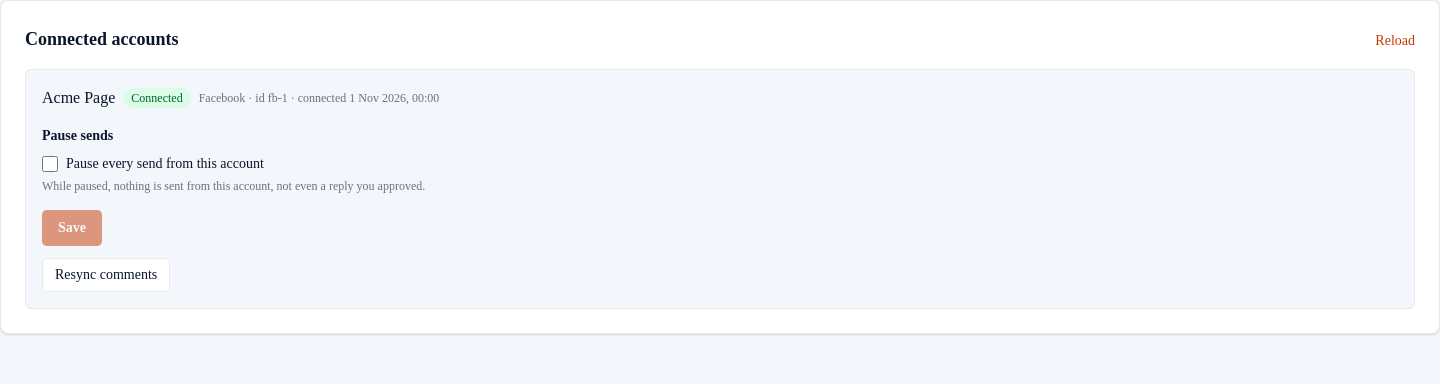
Scenario: Save sends exactly the pause
Click the checkbox labelled "Pause every send from this account".
click(50, 164)  # box 42,156 -> 58,172
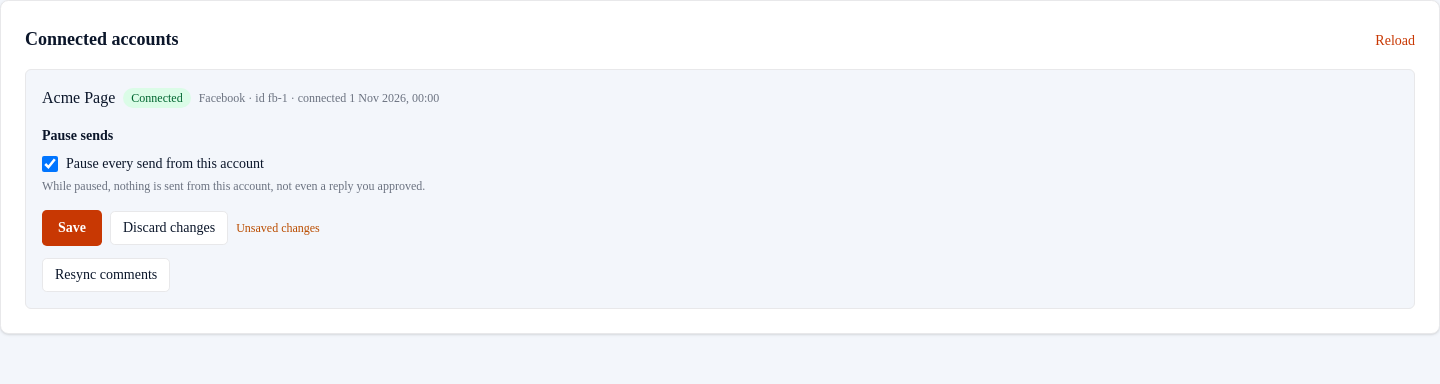
Click the button "Save".
click(72, 228)  # box 42,210 -> 102,246
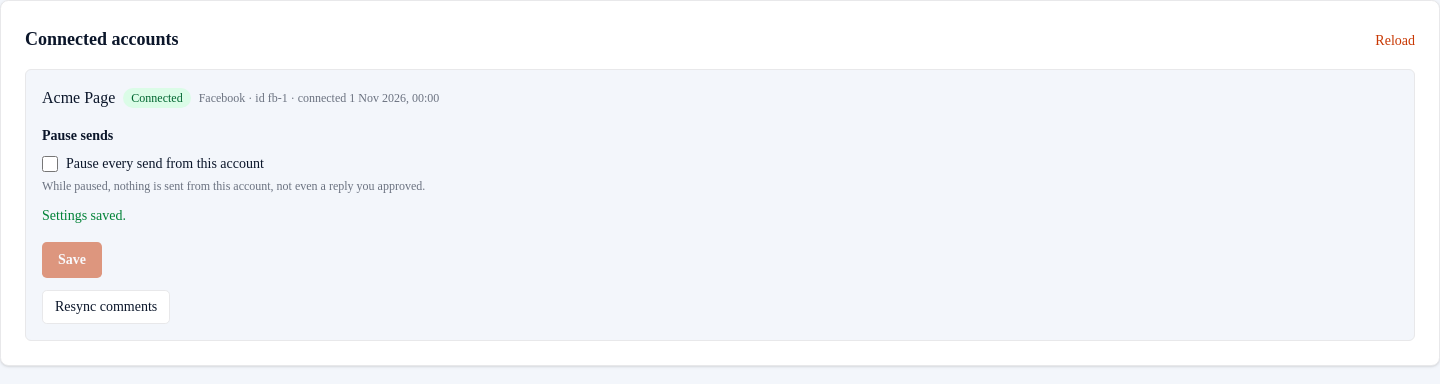
Expected: the text "Settings saved." is shown, 42,208 -> 126,223
Expected: the text "Unsaved changes" is gone
